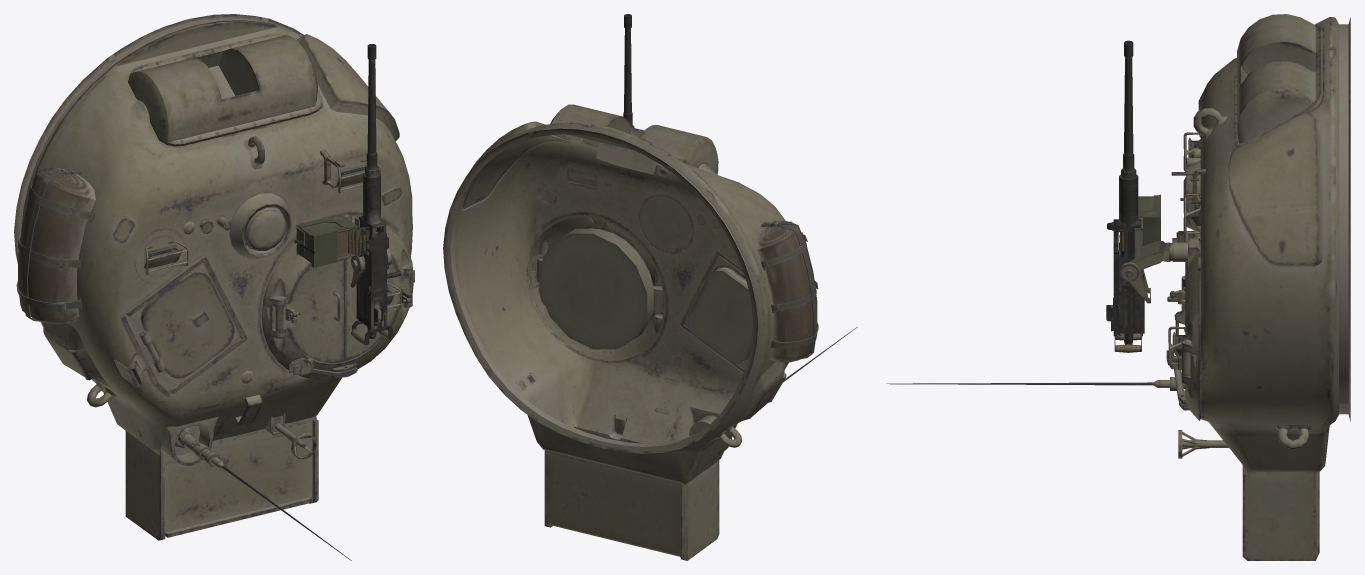
Rendered from Turret_02.glb.
3 views of the same model, side by side, from view 1: azimuth 30°, elevation 25°; view 2: azimuth 150°, elevation 25°; view 3: azimuth 270°, elevation 25° (orthographic). The views are drawn at different scales.
Parts seen in each view (by area): view 1: set_0_group_0; view 2: set_0_group_0; view 3: set_0_group_0.
Part boxes in pixels (<box>): set_0_group_0: <box>14,14,414,560</box>; set_0_group_0: <box>443,14,857,560</box>; set_0_group_0: <box>886,14,1350,560</box>.
Size of the model in its own units: 2.23 by 2.81 by 2.29.
1 material, 1 textured.
